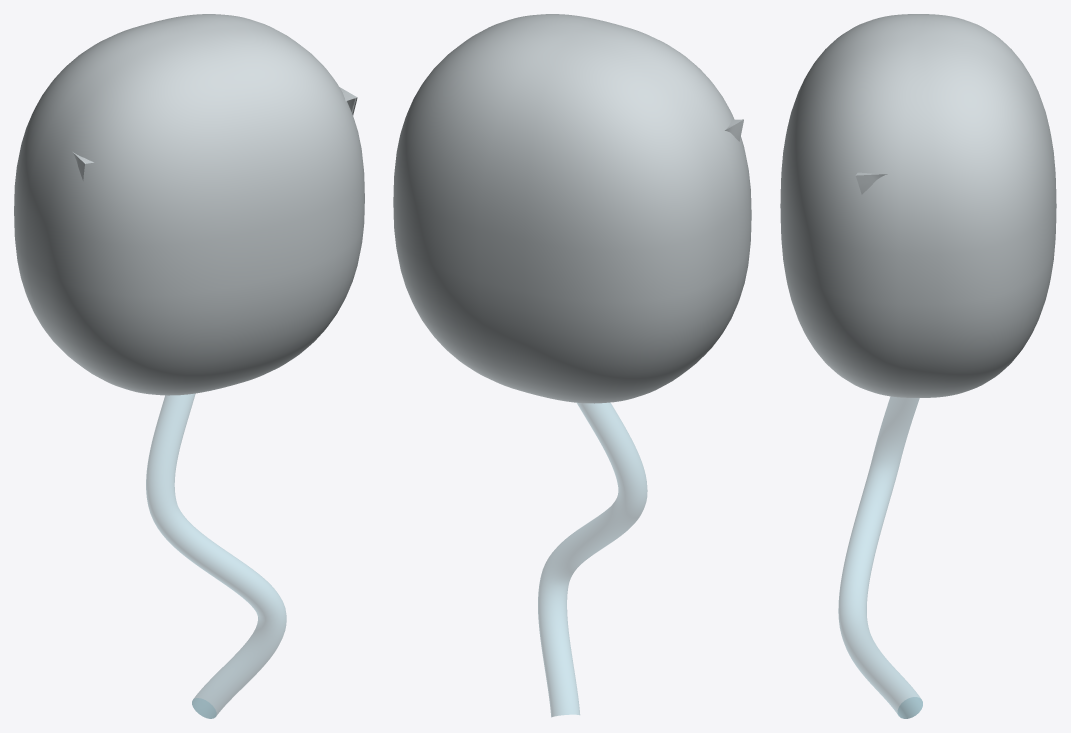
3 renders of one model, left to right at view 1: azimuth 30°, elevation 25°; view 2: azimuth 150°, elevation 25°; view 3: azimuth 270°, elevation 25°, orthographic. The views are drawn at different scales.
Parts seen in each view (by area): view 1: spore-shell, spore-flexible-tail; view 2: spore-shell, spore-flexible-tail; view 3: spore-shell, spore-flexible-tail.
Boxes of the visible parts, left/top/right/bottom form: spore-shell: left=14, top=14, right=364, bottom=395; spore-flexible-tail: left=146, top=394, right=286, bottom=718; spore-shell: left=393, top=14, right=751, bottom=403; spore-flexible-tail: left=538, top=403, right=647, bottom=716; spore-shell: left=780, top=14, right=1056, bottom=397; spore-flexible-tail: left=838, top=396, right=922, bottom=718.
Bounding box in the file's own units: 0.86 × 1.83 × 0.68.
